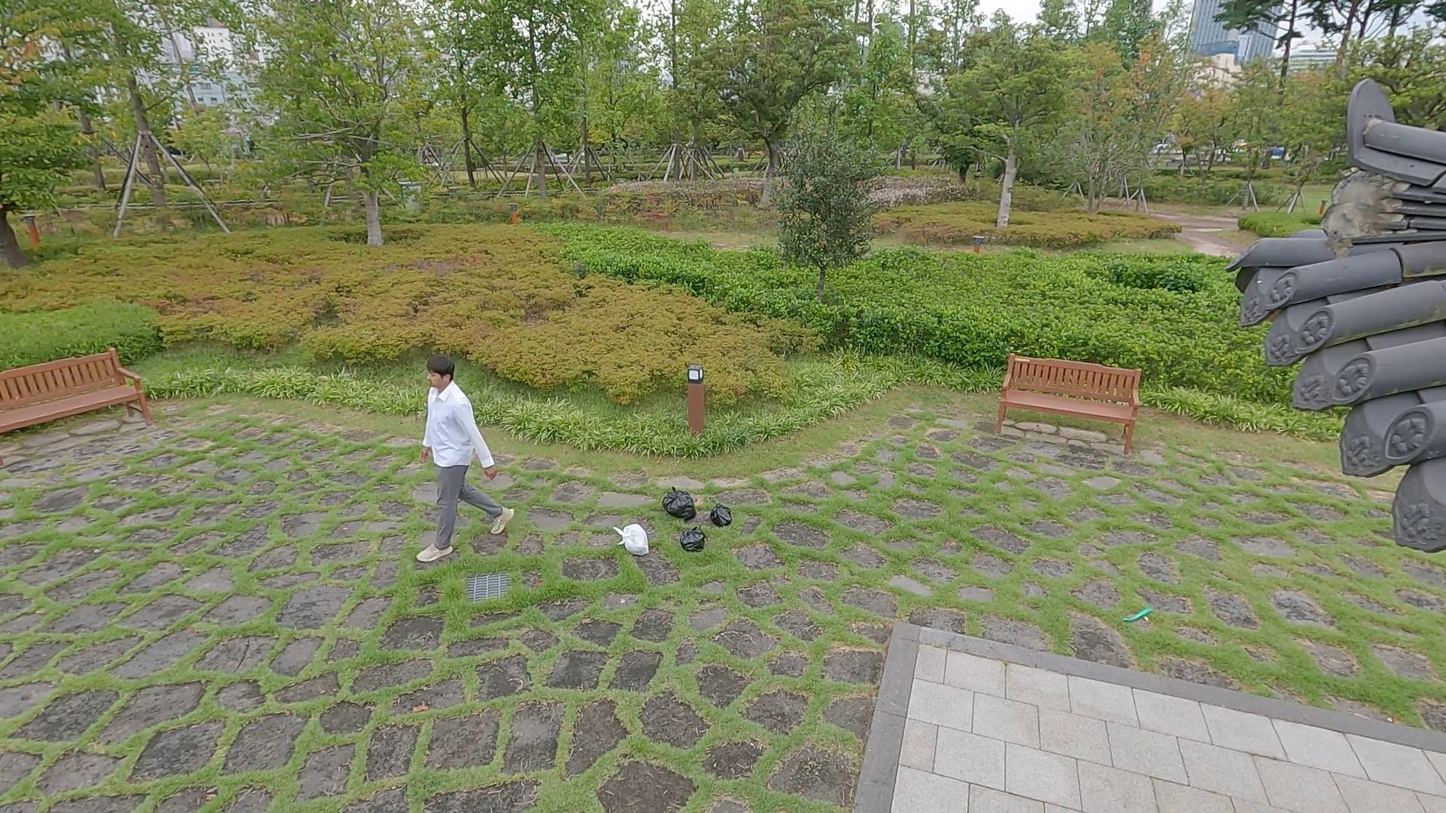person: (413, 352, 517, 569)
trash: (613, 523, 655, 557), (663, 484, 698, 522), (679, 527, 707, 553), (710, 504, 734, 529)
